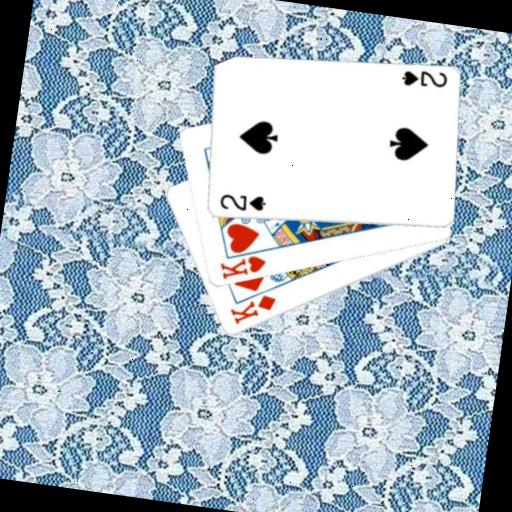2S: (216, 188, 269, 218), (397, 64, 450, 93)
KD: (225, 288, 279, 332)
KH: (215, 248, 269, 287)
